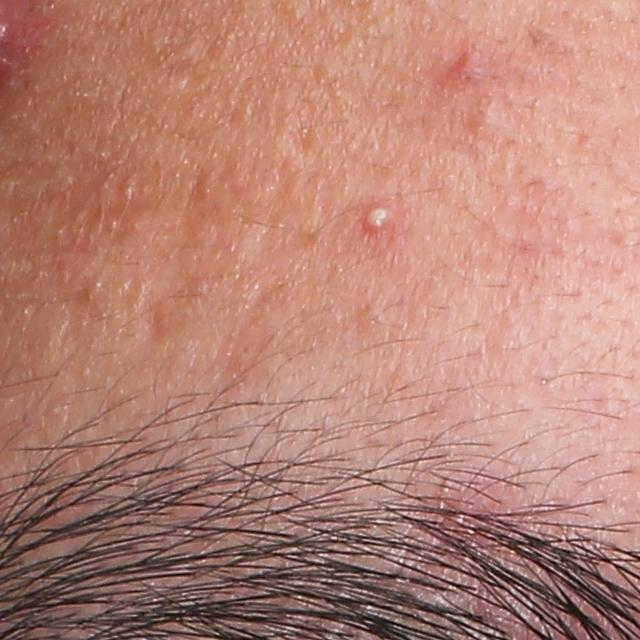comedo: (474, 100, 505, 132), (169, 68, 192, 93)
papule: (446, 50, 495, 92)
pustule: (346, 194, 400, 244)
